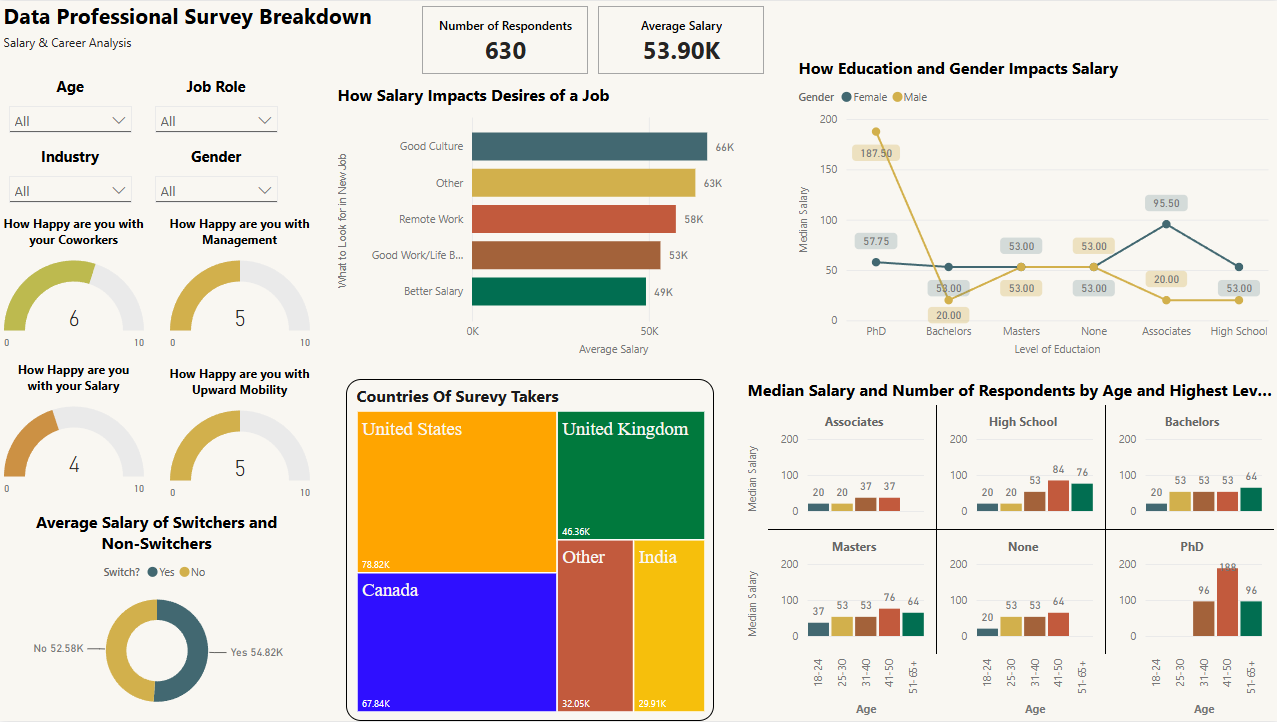

Layout of this report page (visuals, bound fields, positions):
{"tool":"powerbi","page":{"name":"Salary & Career Analysis","canvas":[1280,720],"ordinal":1},"visuals":[{"type":"lineChart","title":"How Education and Gender Impacts Salary","fields":{"Category":["Data Professional Survey.Highest Level of Eductaion"],"Series":["Data Professional Survey.Q9 - Male/Female?"],"Y":["Median(Data Professional Survey.Average Salary)"]},"box":[795,56.2,485,303.8],"z":1000},{"type":"textbox","title":"Data Professional Survey Breakdown","box":[0,0,435.5,56.4],"z":2000},{"type":"slicer","title":"Age","fields":{"Values":["Data Professional Survey.Q10 - Current Age (groups)"]},"box":[0,75.5,142.7,69.1],"z":3000},{"type":"slicer","title":"Industry","fields":{"Values":["Data Professional Survey.Q4 - What Industry do you work in?.1"]},"box":[0,144.5,142.7,69.1],"z":4000},{"type":"slicer","title":"Job Role","fields":{"Values":["Data Professional Survey.Q1 - Which Title Best Fits your Current Role?.1"]},"box":[146.4,75.5,142.7,69.1],"z":5000},{"type":"slicer","title":"Gender","fields":{"Values":["Data Professional Survey.Q9 - Male/Female?"]},"box":[146.4,144.5,142.7,69.1],"z":6000},{"type":"clusteredColumnChart","fields":{"Category":["Data Professional Survey.Q10 - Current Age (groups)"],"Rows":["Data Professional Survey.Highest Level of Eductaion"],"Y":["Median(Data Professional Survey.Average Salary)"]},"box":[743.8,377.5,536.2,342.5],"z":7000},{"type":"gauge","title":"How Happy are you with your Coworkers","fields":{"Y":["Median(Data Professional Survey.Q6 - How Happy are you in your Current Position with the following? (Coworkers))"]},"box":[0,213.8,150,150],"z":8000},{"type":"gauge","title":"How Happy are you with Management","fields":{"Y":["Median(Data Professional Survey.Q6 - How Happy are you in your Current Position with the following? (Management))"]},"box":[166.2,213.8,150,150],"z":9000},{"type":"gauge","title":" How Happy are you with your Salary","fields":{"Y":["Median(Data Professional Survey.Q6 - How Happy are you in your Current Position with the following? (Salary))"]},"box":[0,360,150,150],"z":10000},{"type":"gauge","title":"How Happy are you with Upward Mobility","fields":{"Y":["Median(Data Professional Survey.Q6 - How Happy are you in your Current Position with the following? (Upward Mobility))"]},"box":[166.2,363.8,150,150],"z":11000},{"type":"cardVisual","title":"Total Survey Respondents","fields":{"Data":["Data Professional Survey.Number of Respondents"]},"box":[417.5,0,176.2,77.5],"z":12000},{"type":"cardVisual","title":"Total Survey Respondents","fields":{"Data":["Avg(Data Professional Survey.Avg Salary in Ks)"]},"box":[593.8,0,176.2,77.5],"z":13000},{"type":"donutChart","title":"Average Salary of Switchers and Non-Switchers","fields":{"Category":["Data Professional Survey.Q2 - Did you switch careers into Data?"],"Y":["Avg(Data Professional Survey.Avg in Ks)"]},"box":[0,510,316.2,210],"z":14000},{"type":"treemap","title":"Countries Of Surevy Takers","fields":{"Group":["Data Professional Survey.Q11 - Which Country do you live in?.1"],"Values":["Avg(Data Professional Survey.Avg Salary in Ks)"]},"box":[346.7,378.3,368.3,341.7],"z":15000},{"type":"clusteredBarChart","title":"How Salary Impacts Desires of a Job","fields":{"Category":["Data Professional Survey.Q8 - If you were to look for a new job today, what would be the most important t"],"Y":["Avg(Data Professional Survey.Avg Salary in Ks)"]},"box":[334,83,436,277],"z":16000}]}

Visuals, with their boxes in screenshot pixels (x1, y1, x2, y2), scaled from the page's 1280x720 canvas onto the 1277x722 screenshot:
"How Education and Gender Impacts Salary" lineChart: [x1=793, y1=56, x2=1276, y2=361]
"Data Professional Survey Breakdown" textbox: [x1=0, y1=0, x2=434, y2=57]
"Age" slicer: [x1=0, y1=76, x2=142, y2=145]
"Industry" slicer: [x1=0, y1=145, x2=142, y2=214]
"Job Role" slicer: [x1=146, y1=76, x2=288, y2=145]
"Gender" slicer: [x1=146, y1=145, x2=288, y2=214]
clusteredColumnChart - Data Professional Survey.Q10 - Current Age (groups) x Data Professional Survey.Highest Level of Eductaion: [x1=742, y1=379, x2=1276, y2=721]
"How Happy are you with your Coworkers" gauge: [x1=0, y1=214, x2=150, y2=365]
"How Happy are you with Management" gauge: [x1=166, y1=214, x2=315, y2=365]
" How Happy are you with your Salary" gauge: [x1=0, y1=361, x2=150, y2=511]
"How Happy are you with Upward Mobility" gauge: [x1=166, y1=365, x2=315, y2=515]
"Total Survey Respondents" cardVisual: [x1=417, y1=0, x2=592, y2=78]
"Total Survey Respondents" cardVisual: [x1=592, y1=0, x2=768, y2=78]
"Average Salary of Switchers and Non-Switchers" donutChart: [x1=0, y1=511, x2=315, y2=721]
"Countries Of Surevy Takers" treemap: [x1=346, y1=379, x2=713, y2=721]
"How Salary Impacts Desires of a Job" clusteredBarChart: [x1=333, y1=83, x2=768, y2=361]
